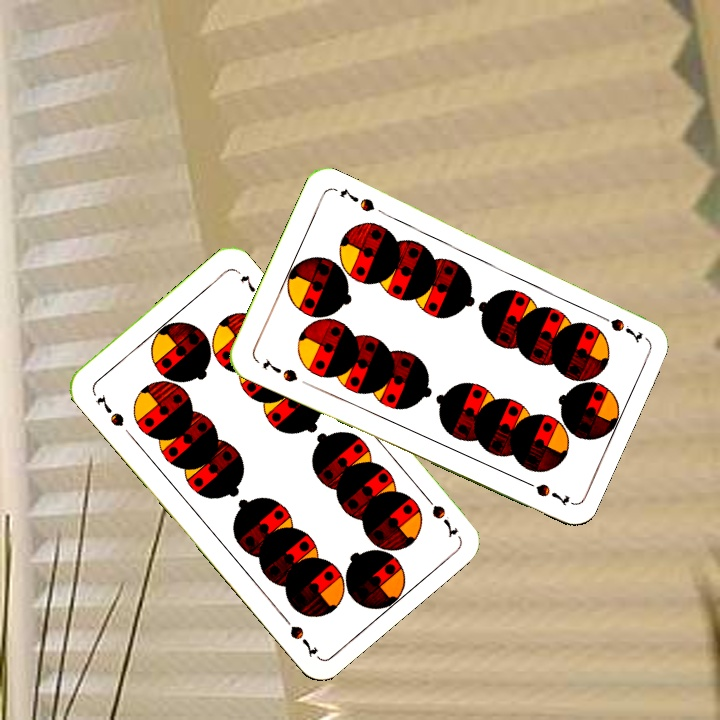S7: (418, 489, 461, 541), (591, 309, 646, 344), (92, 391, 127, 430), (258, 355, 300, 385)
